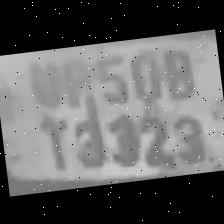0: (122, 44, 162, 102)
2: (136, 100, 172, 168)
3: (166, 94, 210, 166), (66, 106, 108, 170), (103, 104, 141, 168)
5: (88, 50, 130, 104)
B: (156, 36, 196, 100)
P: (54, 51, 92, 106)
T: (34, 111, 72, 174)
U: (18, 53, 62, 110)
